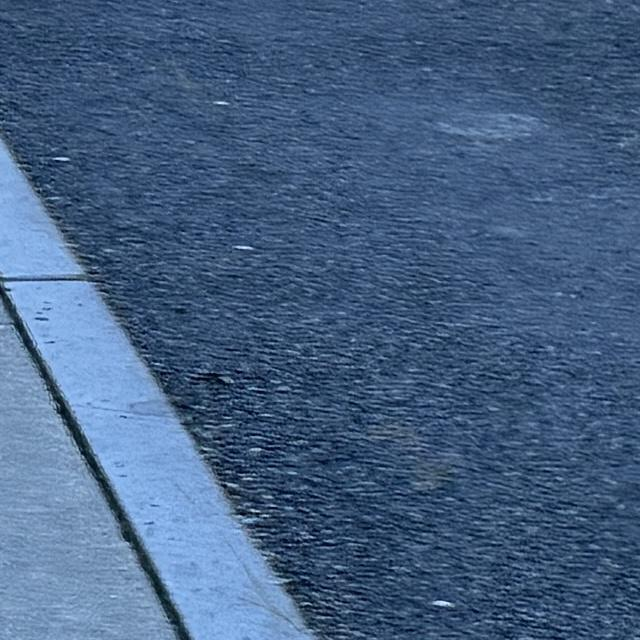curb: (0, 139, 316, 639)
